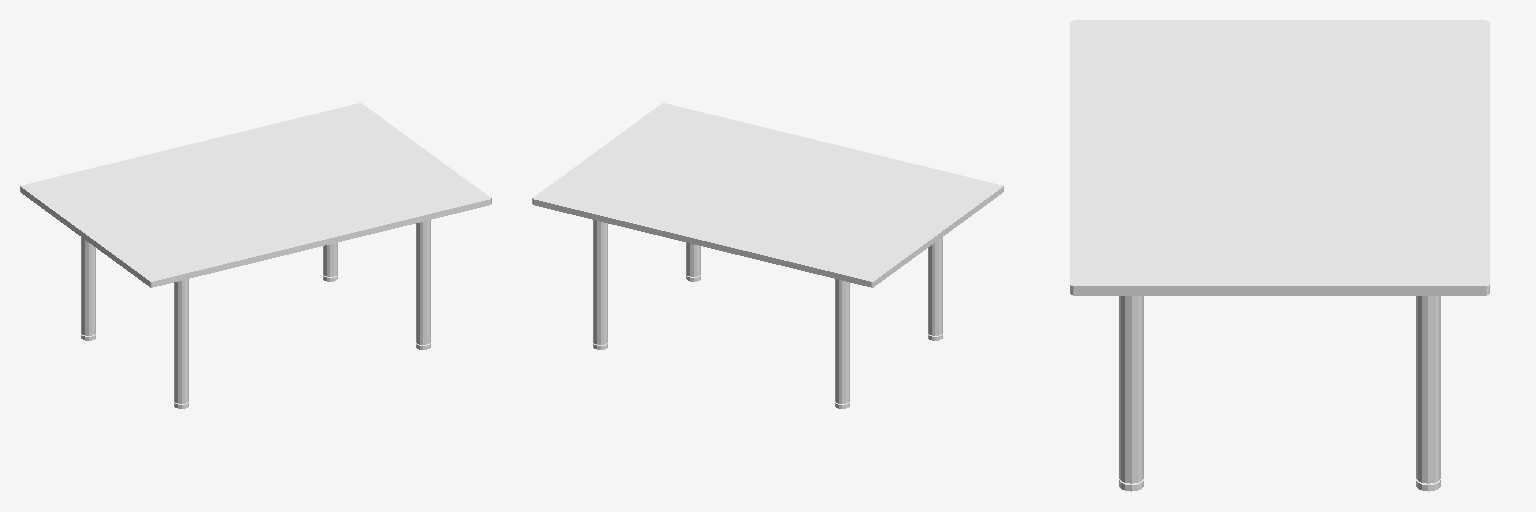
The robot description file, URDF, robot "Officedesk_C":
<?xml version="1.0" encoding="utf-8"?>
<!-- This URDF was automatically created by SolidWorks to URDF Exporter! Originally created by [author] ([email redacted]) 
     Commit Version: 1.5.1-0-g916b5db  Build Version: 1.5.7152.31018
     For more information, please see http://wiki.ros.org/sw_urdf_exporter -->
<robot
  name="Officedesk_C">
  <link
    name="Officedesk_C">
    <inertial>
      <origin
        xyz="-1.4919E-16 1.4978E-17 0.68486"
        rpy="0 0 0" />
      <mass
        value="75.92" />
      <inertia
        ixx="11.621"
        ixy="4.4705E-14"
        ixz="6.4255E-15"
        iyy="23.852"
        iyz="-8.0575E-16"
        izz="31.805" />
    </inertial>
    <visual>
      <origin
        xyz="0 0 0"
        rpy="0 0 0" />
      <geometry>
        <mesh
          filename="package://Officedesk_C/meshes/Officedesk_C.STL" />
      </geometry>
      <material
        name="">
        <color
          rgba="1 1 1 1" />
        <texture
          filename="package://Officedesk_C/textures/" />
      </material>
    </visual>
    <collision>
      <origin
        xyz="0 0 0"
        rpy="0 0 0" />
      <geometry>
        <mesh
          filename="package://Officedesk_C/meshes/Officedesk_C.STL" />
      </geometry>
    </collision>
  </link>
</robot>

--- Facts derived from the render (not from the file) ---
3 views of the same robot in one strip: view 1: azimuth 30°, elevation 25°; view 2: azimuth 150°, elevation 25°; view 3: azimuth 270°, elevation 25° (orthographic).
Model Officedesk_C with 1 links and 0 joints (none), rooted at Officedesk_C, posed all joints at 0.
Links seen in each view (by area): view 1: Officedesk_C; view 2: Officedesk_C; view 3: Officedesk_C.
Boxes of the visible links, left/top/right/bottom form: Officedesk_C: left=20, top=103, right=491, bottom=408; Officedesk_C: left=532, top=103, right=1003, bottom=408; Officedesk_C: left=1070, top=20, right=1489, bottom=491.
Size in the robot's own frame: 1.8 by 1.2 by 0.755 metres.
Meshes: 1 distinct files referenced, 1 mesh visuals loaded (1 binary STL).